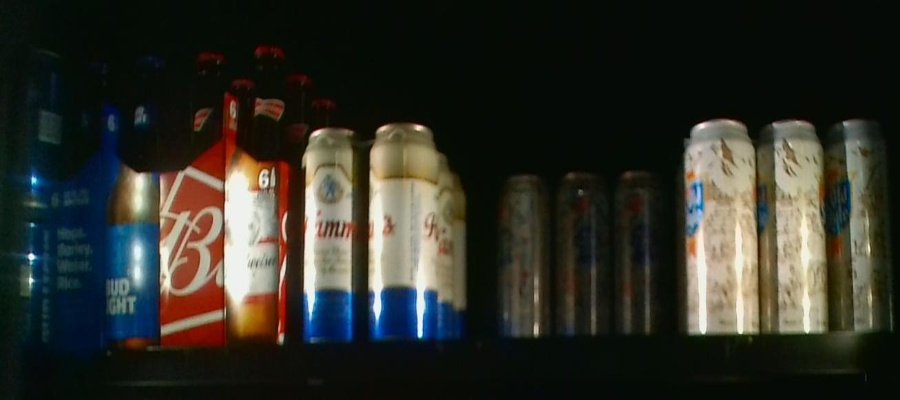bottle: (684, 117, 894, 335), (12, 52, 160, 354), (161, 44, 291, 350), (297, 125, 468, 338), (494, 169, 674, 340)
